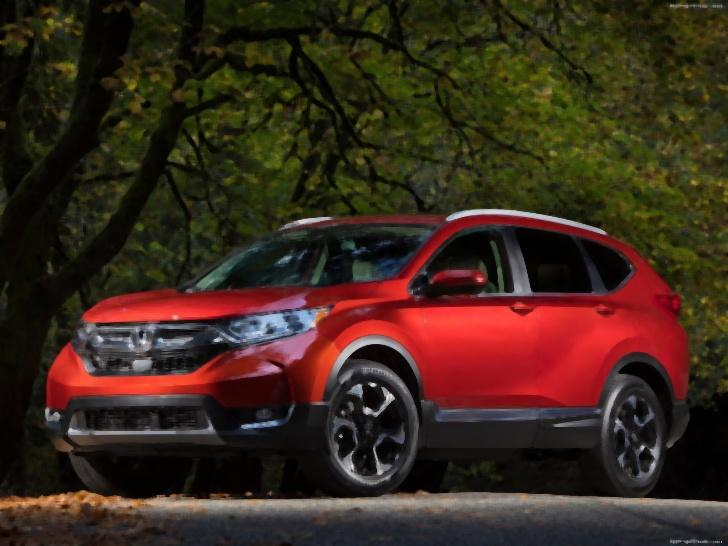Car hood: (77, 286, 397, 324)
Fender - -F-L-: (293, 260, 436, 416)
Fender - -R-L-: (592, 245, 694, 421)
Front bumper: (42, 329, 342, 454)
Headlight - -L-: (223, 304, 334, 345)
Passenger-s door - -F-L-: (401, 203, 543, 459)
Passenger-s door - -R-L-: (499, 198, 621, 457)
Rear bumper: (656, 380, 697, 457)
Rear light - -L-: (656, 288, 686, 321)
Side bumper - -L-: (419, 387, 607, 459)
Side mirror - -L-: (409, 266, 489, 302)
